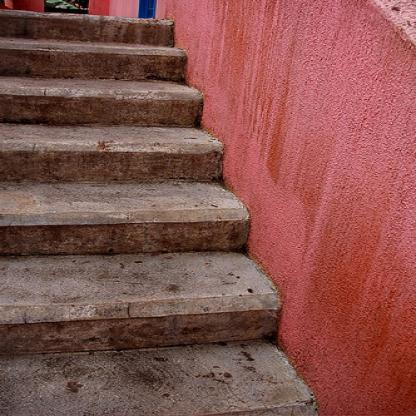stairs: (1, 153, 209, 412)
